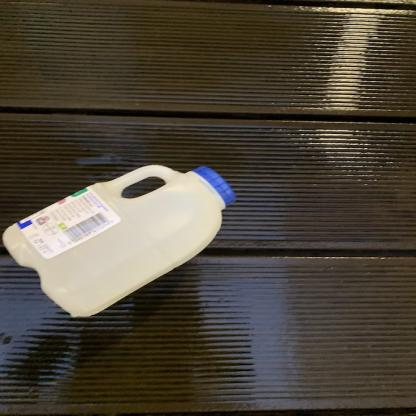trash: (3, 158, 240, 320)
